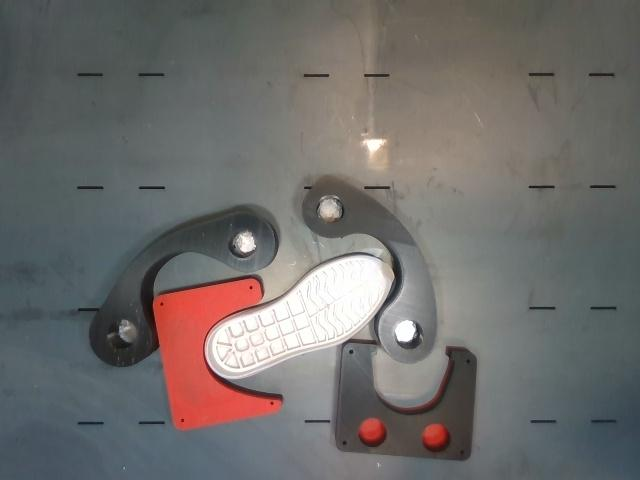shoes: (207, 256, 393, 377)
